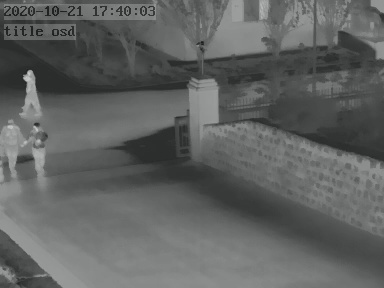person: (2, 118, 24, 177), (27, 118, 46, 177), (22, 68, 40, 113)
